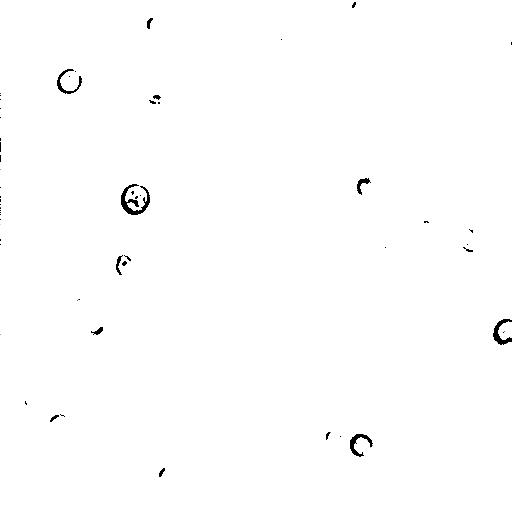micro-algae: (147, 28, 215, 95), (147, 265, 188, 305), (124, 353, 154, 385), (121, 182, 149, 216), (494, 15, 511, 62), (375, 236, 404, 263), (458, 224, 485, 253), (56, 68, 83, 95), (179, 101, 204, 127), (47, 411, 73, 436), (1, 137, 24, 165), (349, 433, 375, 457), (69, 293, 92, 319), (272, 19, 293, 47), (491, 316, 512, 344), (156, 465, 179, 487), (415, 217, 435, 242), (115, 252, 135, 277), (356, 176, 377, 199), (23, 389, 41, 412), (349, 0, 370, 19), (323, 427, 342, 447), (88, 317, 106, 338), (147, 15, 163, 33), (267, 0, 292, 9), (223, 0, 244, 10)
